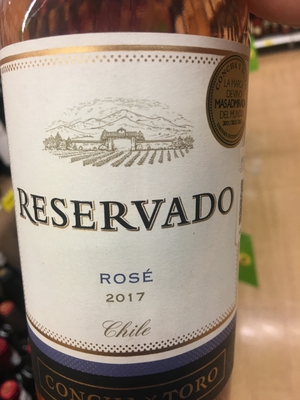reservado rose: (2, 8, 251, 400)
